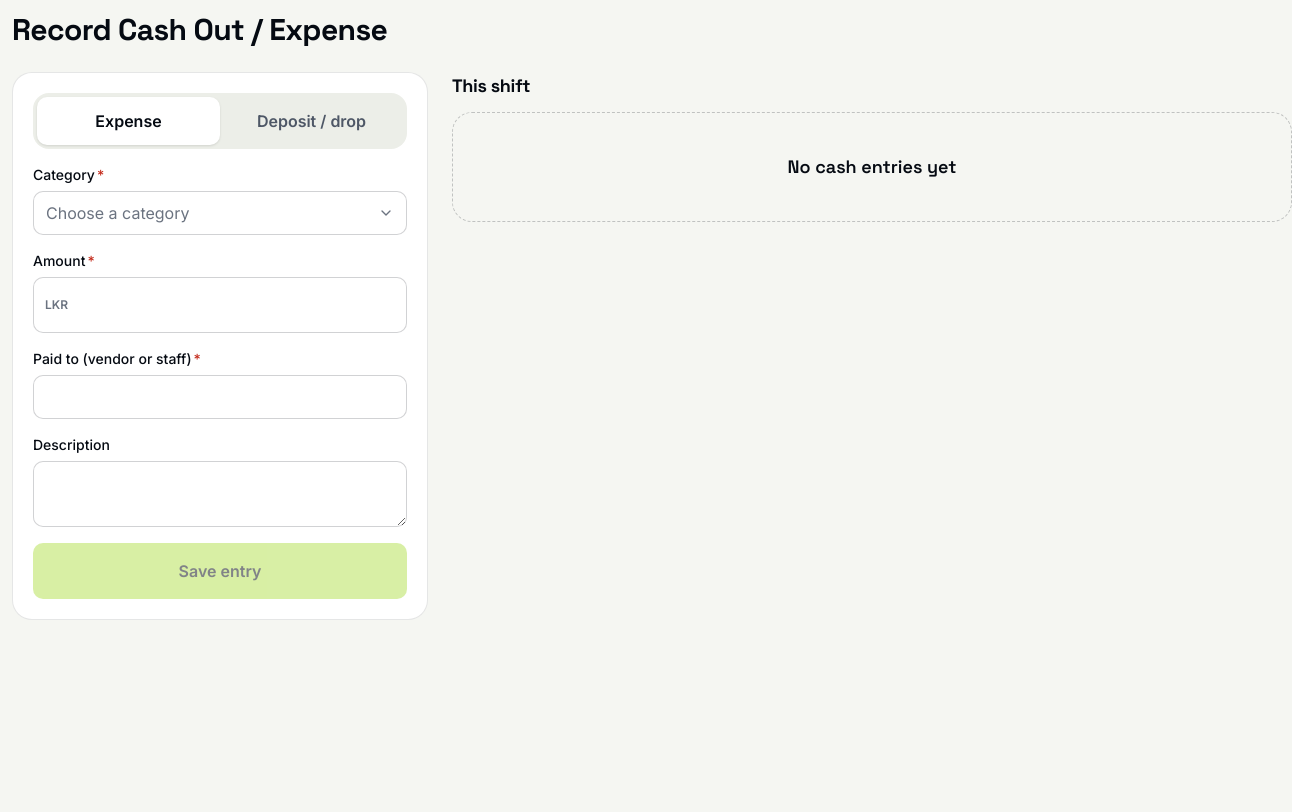
CashPage › shows manager approval above the threshold
The image size is (1292, 812).
Type "6000" into the field labelled "Amount*" at (220, 305), box top-left (33, 277), bottom-right (407, 333)
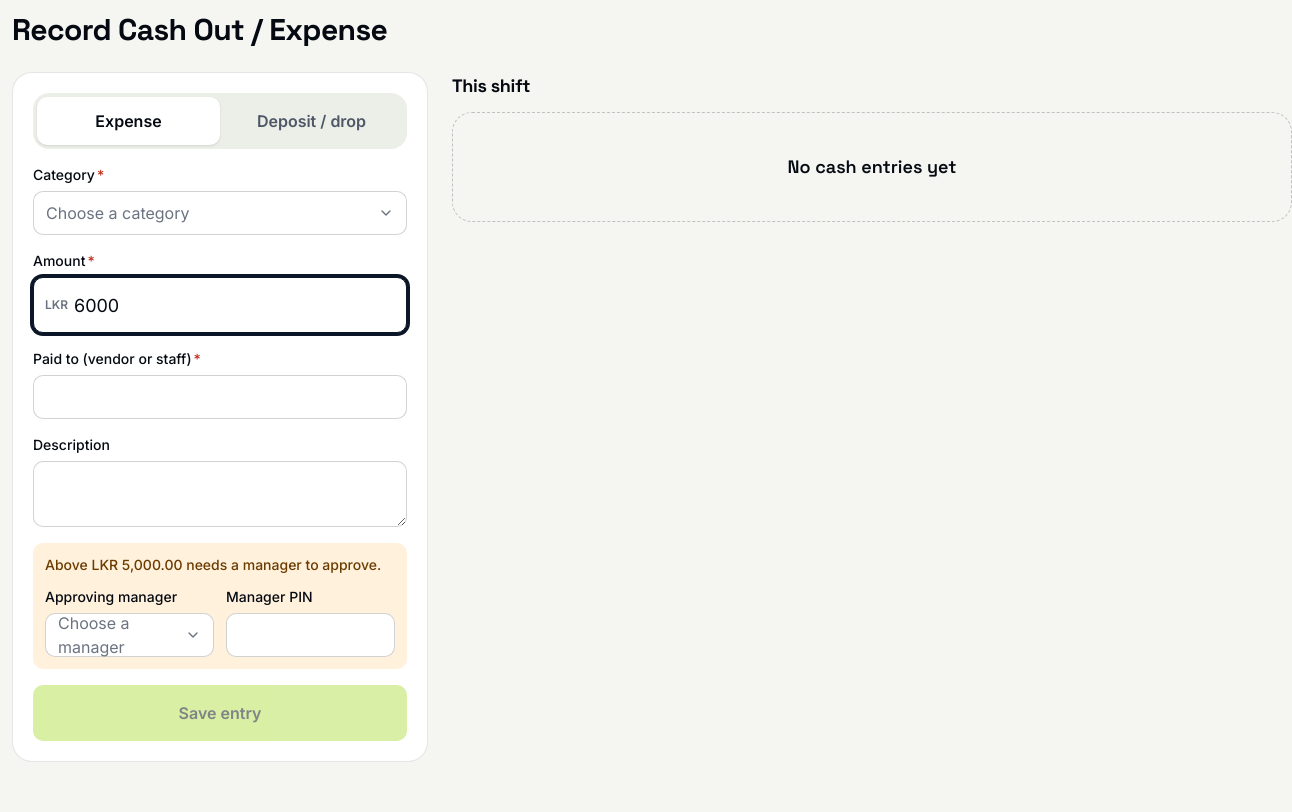
Expected: the text "Above LKR 5,000.00 needs a manager to approve." is shown, top-left (45, 555), bottom-right (395, 575)
